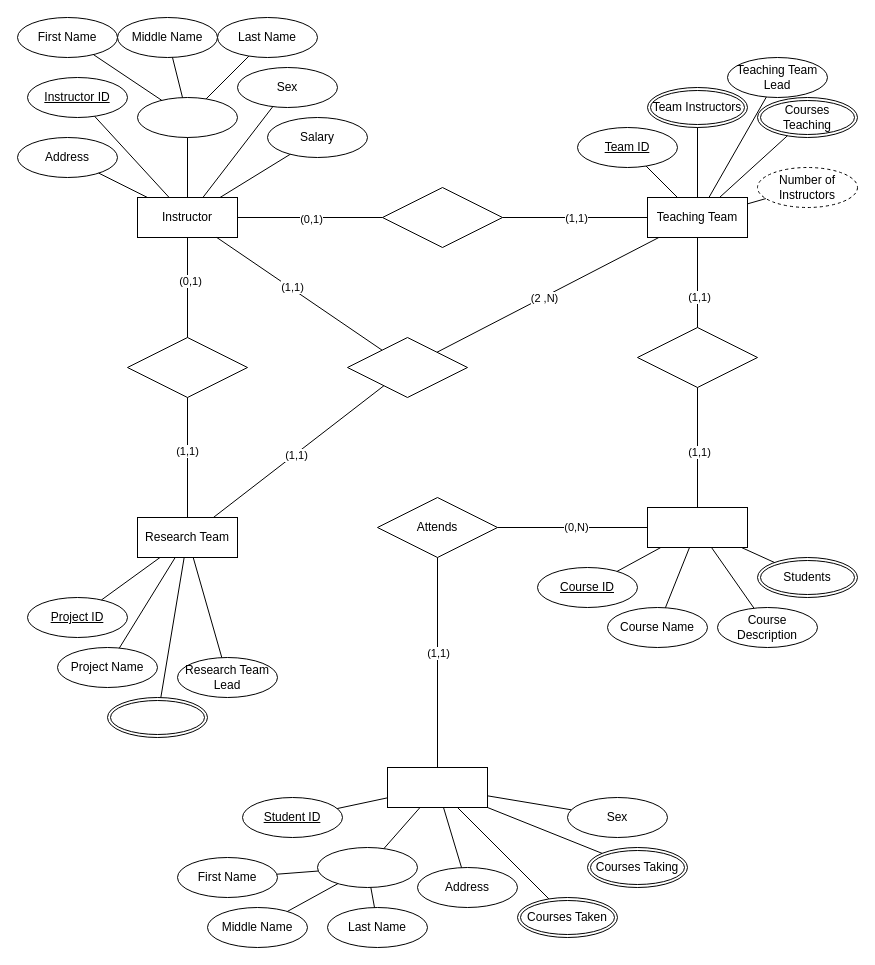
Image size: 875x965. Some labels were removed from this diagram. The shapes that lost their labels are listed below. From the top down, each one's box as (x1, y1, x2, y2) in pixels, then its label:
(136, 96, 238, 138): Instructor Name
(382, 186, 502, 248): Lead Team
(126, 336, 248, 398): Oversees
(346, 336, 468, 398): Assigned To
(636, 326, 758, 388): Teaches
(646, 506, 748, 548): Course
(106, 696, 208, 738): Team Researchers
(386, 766, 488, 808): Student
(316, 846, 418, 888): Student Name
